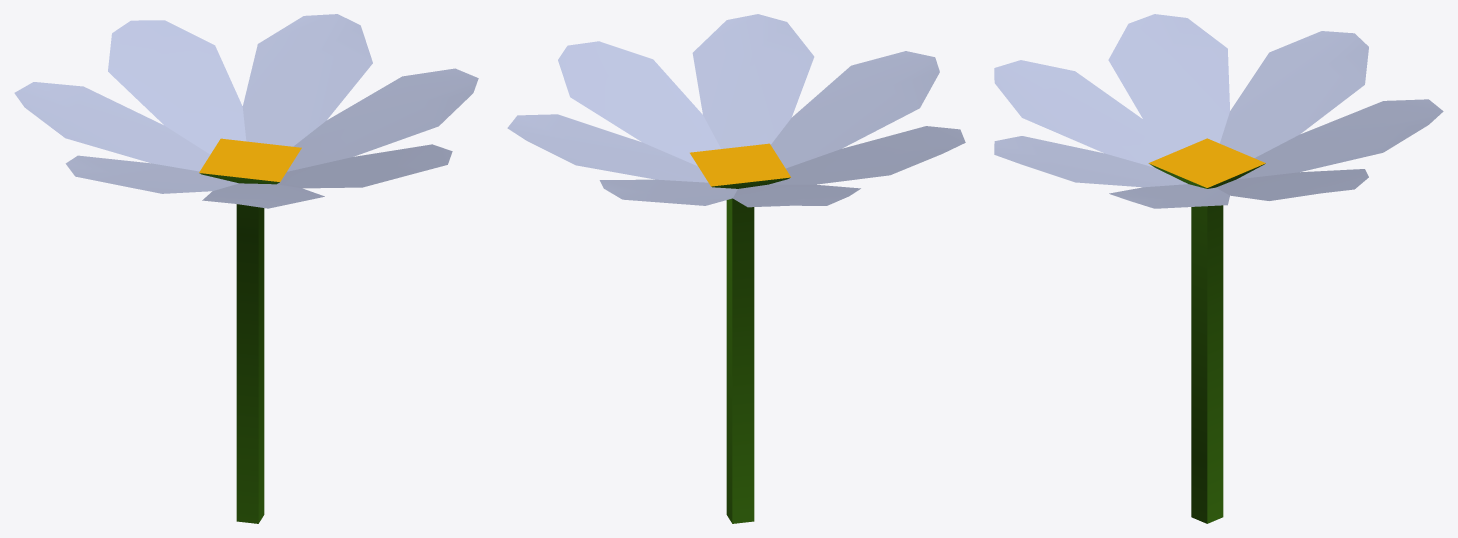
File: Flor.fbx
3 renders of one model, left to right at view 1: azimuth 30°, elevation 25°; view 2: azimuth 150°, elevation 25°; view 3: azimuth 270°, elevation 25°, orthographic.
Visible parts, largest first — view 1: Flor; view 2: Flor; view 3: Flor.
Part boxes in pixels (bbox=[...]): Flor: bbox=[14, 14, 478, 523]; Flor: bbox=[507, 14, 965, 523]; Flor: bbox=[994, 14, 1443, 523].
Size of the model in its own units: 16.91 by 16.43 by 16.49.
